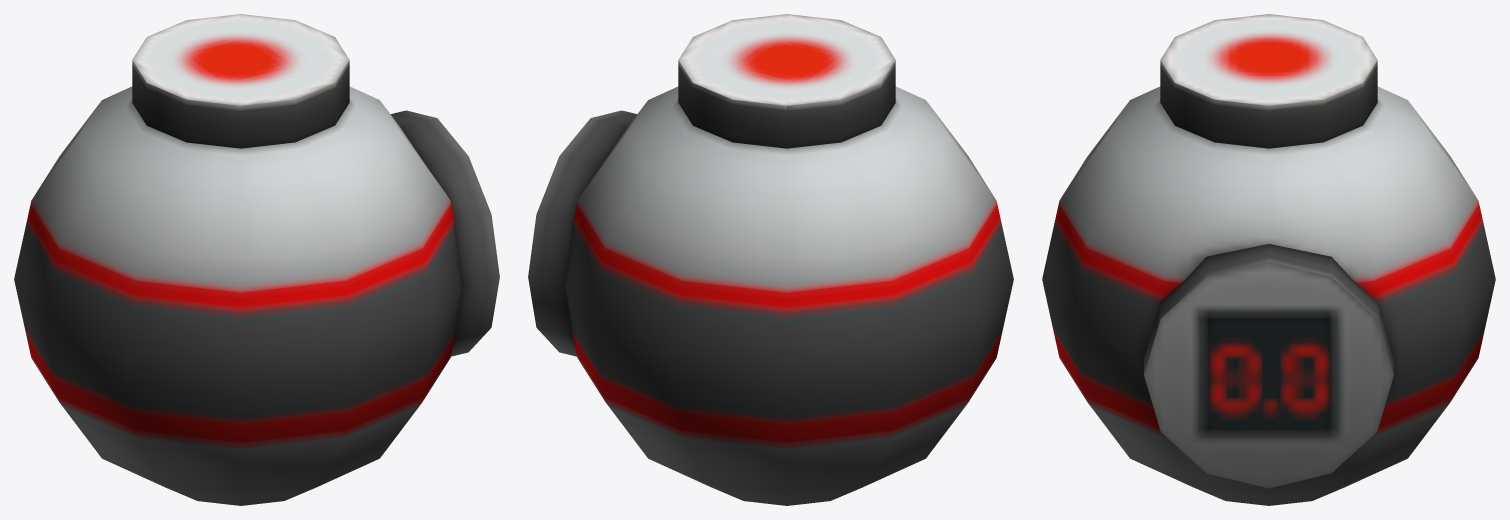
Rendered from Boom.fbx.
3 views of the same model, side by side, from view 1: azimuth 30°, elevation 25°; view 2: azimuth 150°, elevation 25°; view 3: azimuth 270°, elevation 25° (orthographic).
Parts seen in each view (by area): view 1: Boom; view 2: Boom; view 3: Boom.
Part boxes in pixels (box(x1,y1,x2,y2)): Boom: box(14, 14, 499, 505); Boom: box(528, 14, 1013, 505); Boom: box(1042, 14, 1495, 505).
Size of the model in its own units: 1.81 by 1.87 by 1.81.
Materials: 1 (1 with a texture image).
